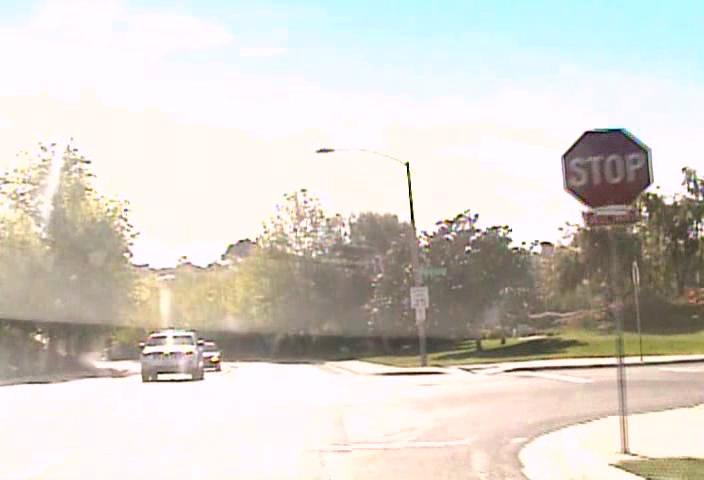stop: (561, 127, 653, 211)
